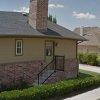Chimney: (22, 0, 54, 30)
